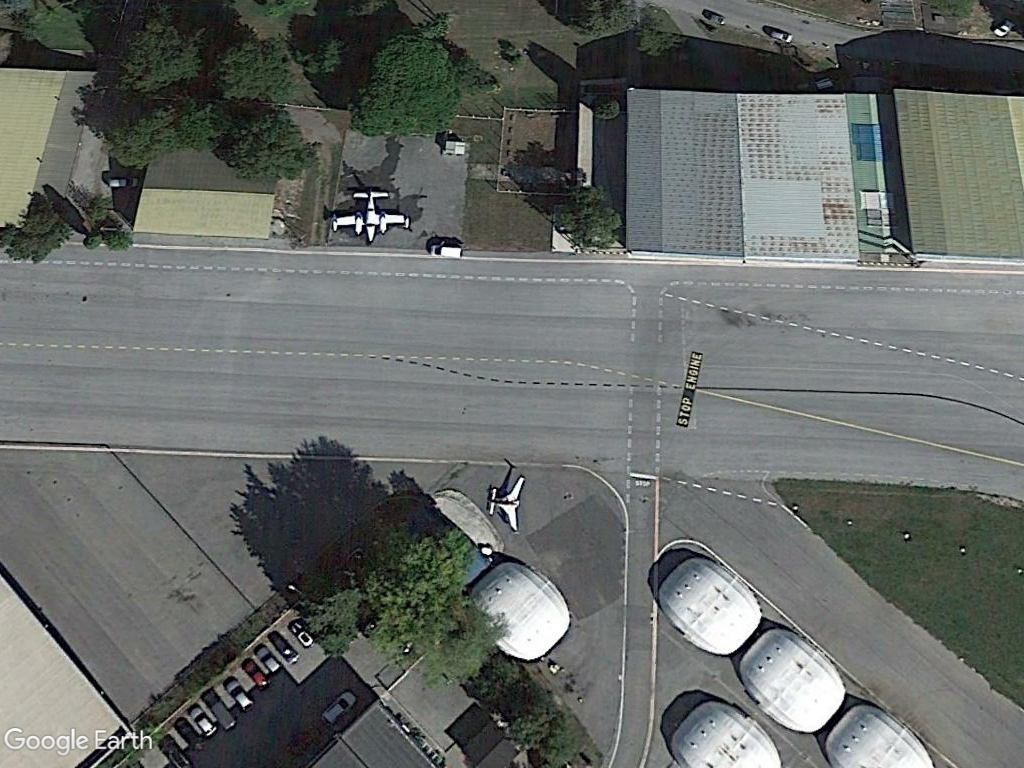trainer: (327, 185, 414, 246)
van: (425, 238, 469, 262)
